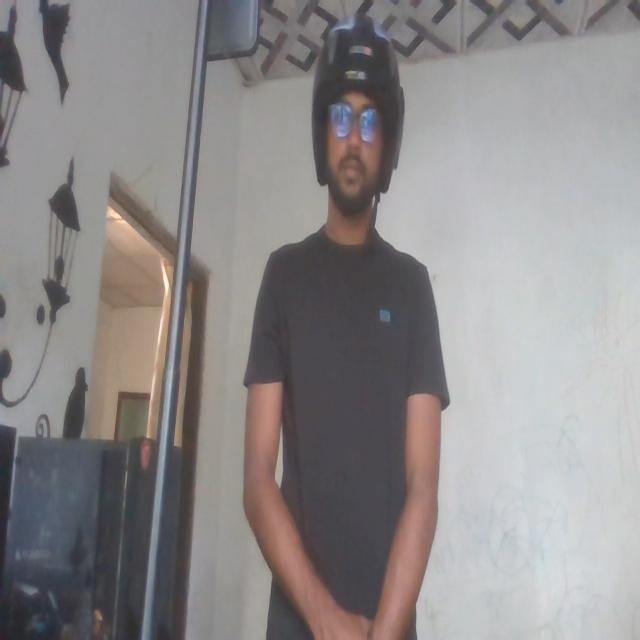Helmet_Wearer: (301, 15, 407, 257)
Person: (240, 15, 440, 637)
